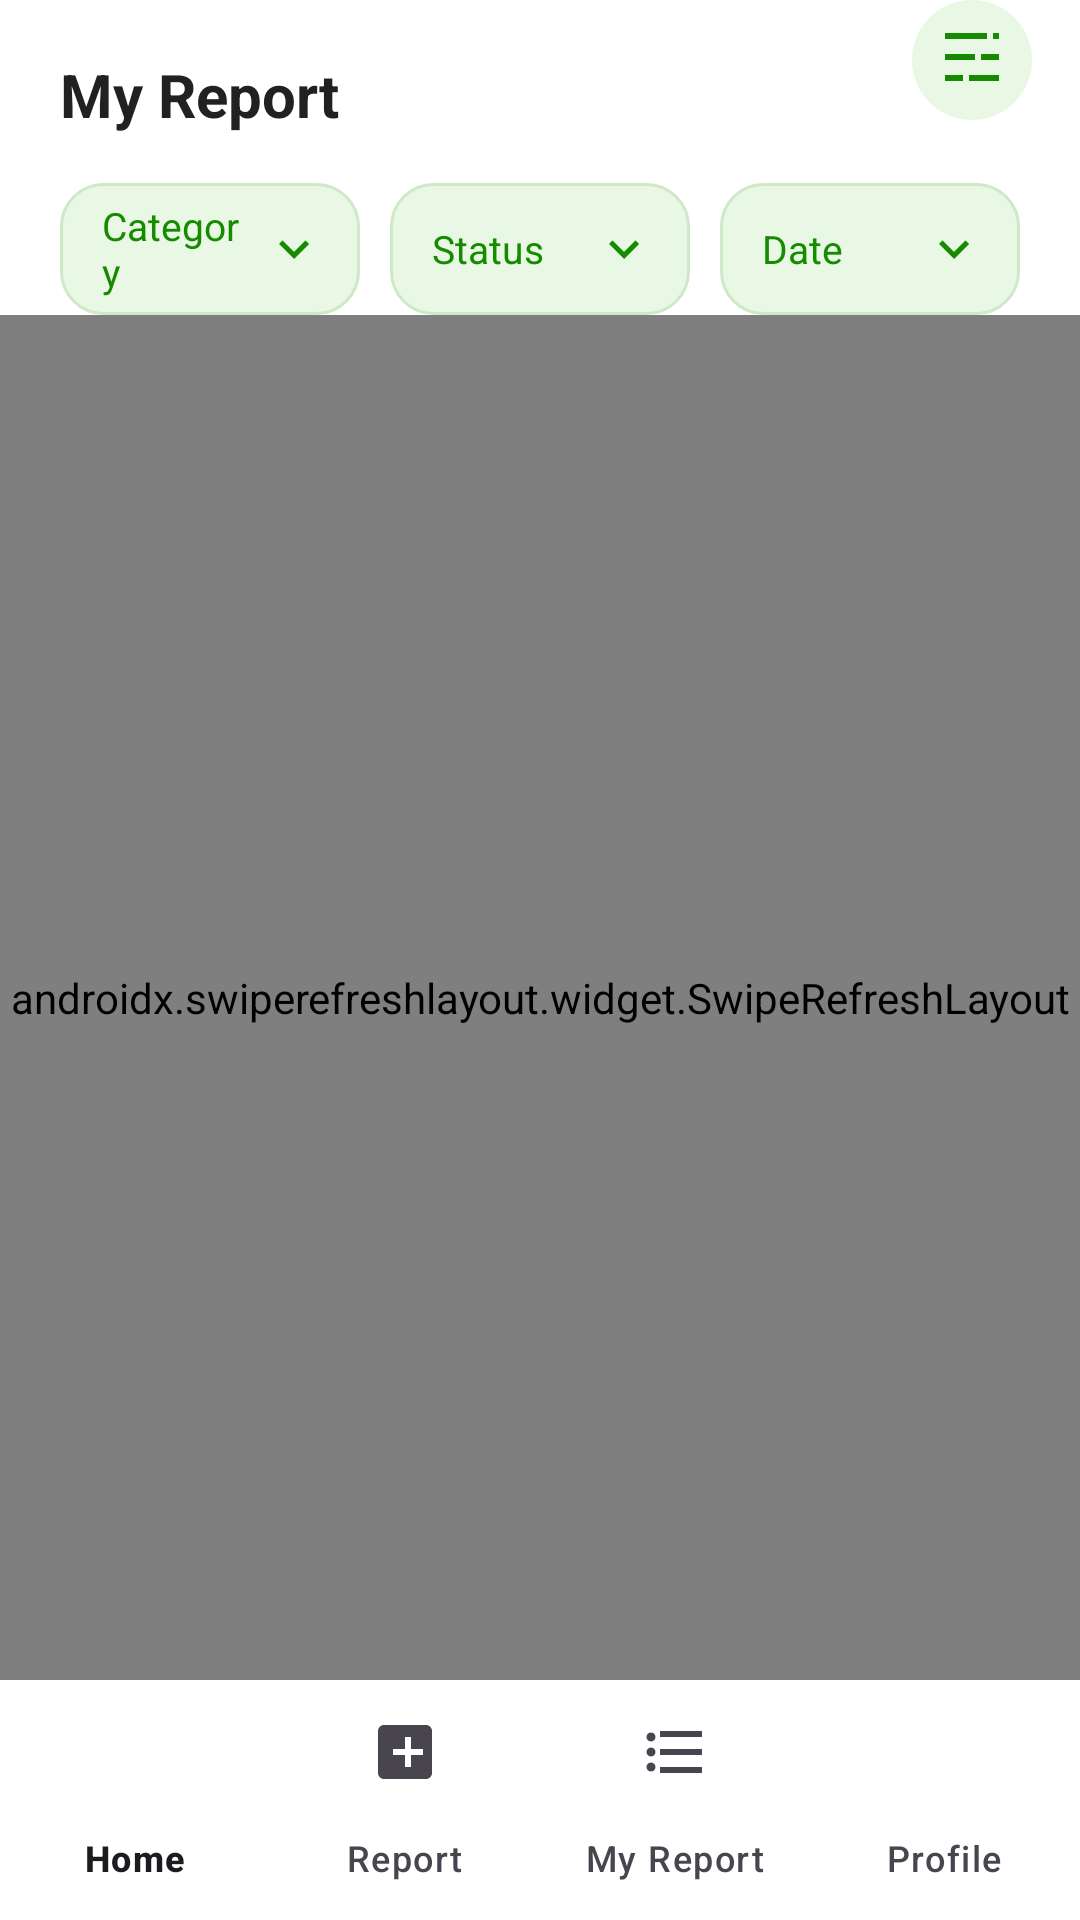

Where icons sit on this 1080px x 1920px app screen, as bbox=(x1, y1, x2, y2):
Dropdown: bbox=(279, 240, 309, 259), bbox=(609, 240, 639, 259), bbox=(939, 240, 969, 259)
Filter: bbox=(912, 0, 1032, 120)
